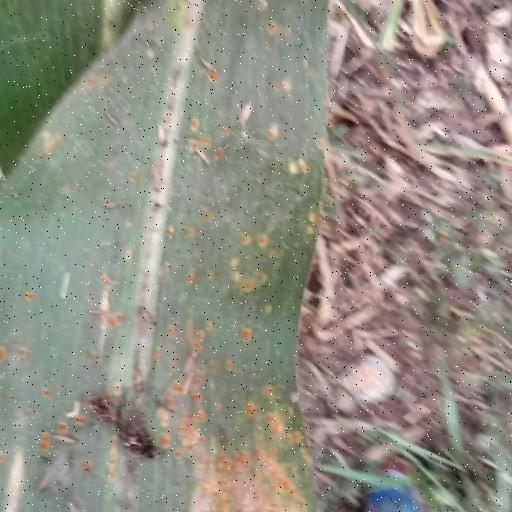Corn_Rust: (0, 0, 350, 512)
